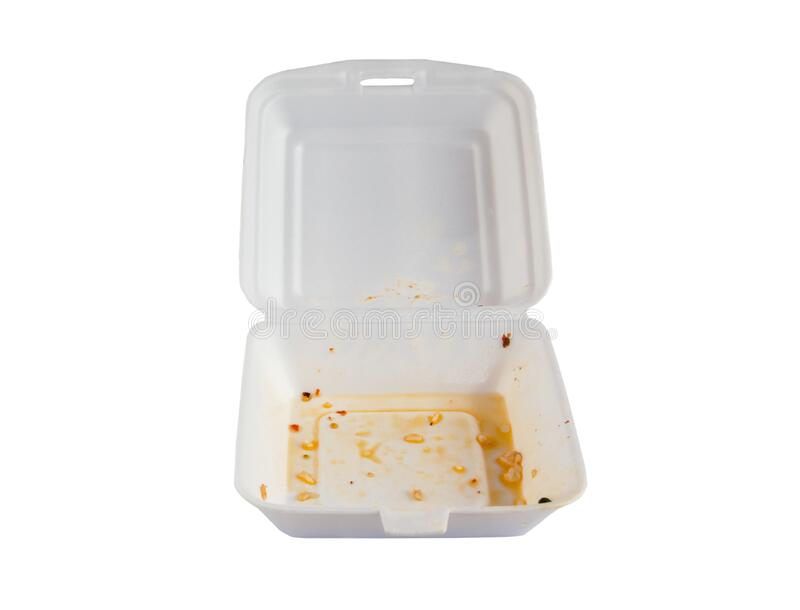Foam Box: (220, 53, 593, 554)
